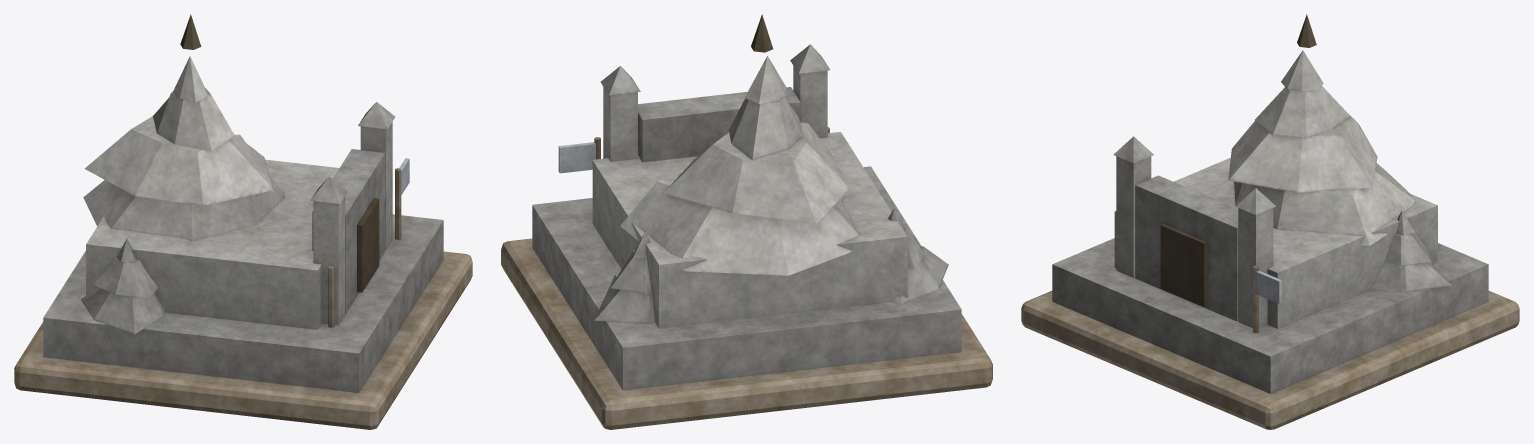
The model's file is capital_brakkar.glb.
The picture shows the model from 3 angles, left to right: view 1: azimuth 30°, elevation 25°; view 2: azimuth 150°, elevation 25°; view 3: azimuth 270°, elevation 25°; orthographic projection. The views are drawn at different scales.
Parts seen in each view (by area): view 1: dilek; view 2: dilek; view 3: dilek.
Part boxes in pixels (x1,y1,x2,y2): dilek: [14, 14, 472, 429]; dilek: [501, 14, 992, 429]; dilek: [1021, 14, 1519, 429].
Bounding box in the file's own units: 2.42 × 1.6 × 2.42.
1 material, 1 textured.
